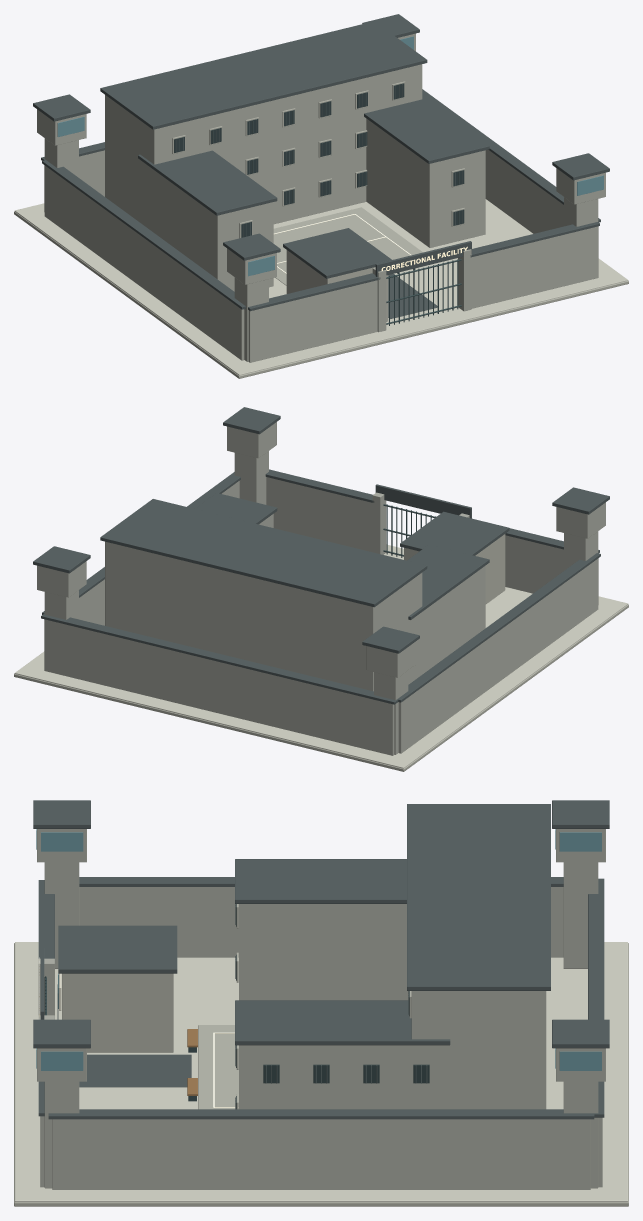
Rendered from prison-8x8.glb.
The picture shows the model from 3 angles, top to bottom: view 1: azimuth 30°, elevation 25°; view 2: azimuth 150°, elevation 25°; view 3: azimuth 270°, elevation 25°; orthographic projection. The views are drawn at different scales.
Visible parts, largest first — view 1: RearCellBlock, RearCellRoof, Paving, PerimeterWall, SideCellWing.001, FrontWall, FrontWall.001, SideCellWing, WingRoof, WingRoof.001, PerimeterWall.001, ExerciseYard (+22 smaller); view 2: RearCellBlock, RearWall, RearCellRoof, PerimeterWall, Paving, FrontWall.001, SideCellWing, RearWallCoping, GatehouseRoof, FrontWall, WingRoof, WallCoping (+21 smaller); view 3: PerimeterWall.001, Paving, RearCellRoof, SideCellWing, RearCellBlock, SideCellWing.001, PerimeterWall, WingRoof.001, Gatehouse, WingRoof, GatehouseRoof, WallCoping.001 (+23 smaller).
Part boxes in pixels (left/top/right/bottom): RearCellBlock: left=105, top=64, right=422, bottom=232; RearCellRoof: left=100, top=21, right=427, bottom=129; Paving: left=15, top=199, right=628, bottom=375; PerimeterWall: left=44, top=165, right=244, bottom=360; SideCellWing.001: left=366, top=118, right=485, bottom=247; FrontWall: left=248, top=280, right=377, bottom=362; FrontWall.001: left=471, top=226, right=598, bottom=308; SideCellWing: left=146, top=164, right=273, bottom=291; WingRoof: left=138, top=150, right=277, bottom=215; WingRoof.001: left=364, top=97, right=489, bottom=163; PerimeterWall.001: left=485, top=149, right=563, bottom=233; ExerciseYard: left=273, top=207, right=422, bottom=285; RearCellBlock: left=105, top=541, right=422, bottom=691; RearWall: left=44, top=619, right=394, bottom=755; RearCellRoof: left=100, top=499, right=427, bottom=607; PerimeterWall: left=398, top=558, right=598, bottom=753; Paving: left=14, top=544, right=627, bottom=768; FrontWall.001: left=266, top=477, right=372, bottom=552; SideCellWing: left=410, top=565, right=485, bottom=683; RearWallCoping: left=41, top=613, right=399, bottom=704; GatehouseRoof: left=400, top=511, right=509, bottom=555; FrontWall: left=505, top=535, right=598, bottom=604; WingRoof: left=407, top=544, right=489, bottom=619; WallCoping: left=397, top=553, right=600, bottom=702; PerimeterWall.001: left=52, top=1119, right=590, bottom=1189; Paving: left=15, top=942, right=627, bottom=1202; RearCellRoof: left=407, top=804, right=550, bottom=990; SideCellWing: left=239, top=904, right=408, bottom=1000; RearCellBlock: left=411, top=991, right=546, bottom=1109; SideCellWing.001: left=239, top=1045, right=445, bottom=1109; PerimeterWall: left=79, top=887, right=563, bottom=957; WingRoof.001: left=235, top=1000, right=450, bottom=1045; Gatehouse: left=62, top=973, right=173, bottom=1052; WingRoof: left=235, top=859, right=406, bottom=903; GatehouseRoof: left=58, top=925, right=177, bottom=973; WallCoping.001: left=48, top=1109, right=594, bottom=1119.
Size of the model in its own units: 32 by 10.43 by 32.
